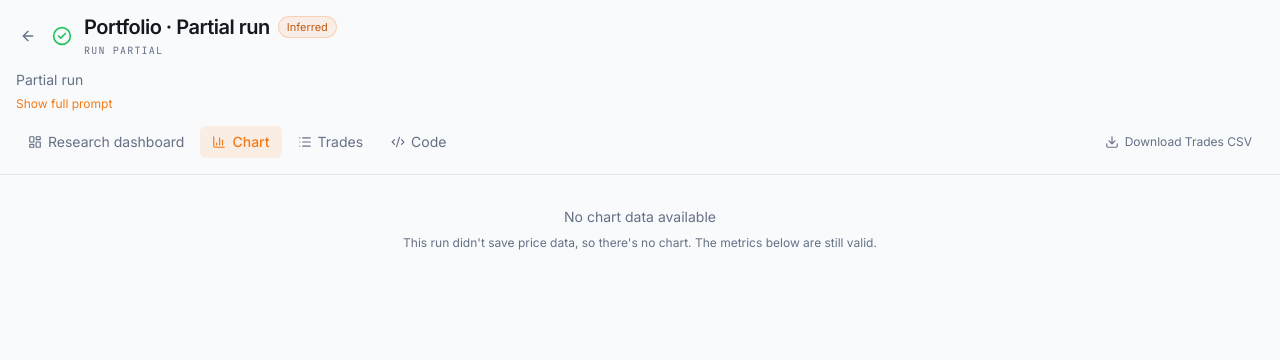
Test: RunDetail page › a trade whose P&L cannot be read is not counted as 0 in the headline total; the total says it is partial
Expected: the text "Partial run" is shown, left=16, top=71, right=83, bottom=88
Click the tab "Trades". click: (330, 142)
box: left=286, top=126, right=375, bottom=158
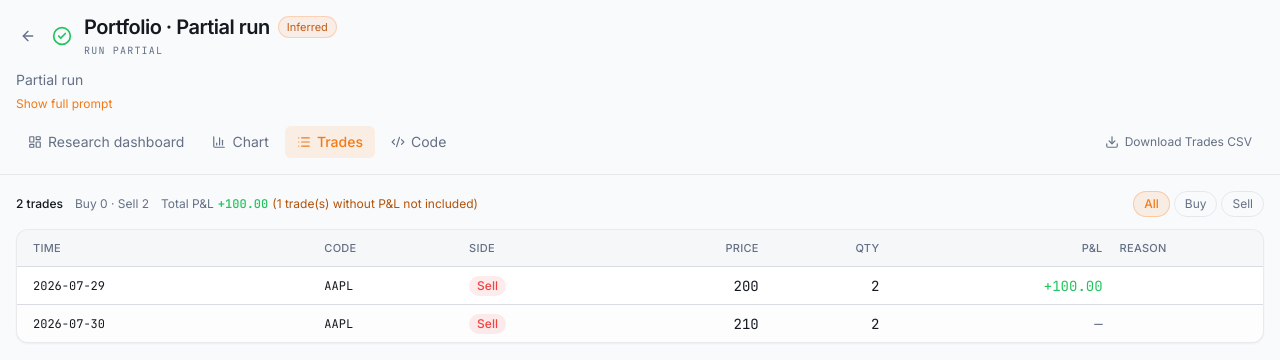
Expected: the text "Total P&L" shows "+100", left=218, top=196, right=268, bottom=212
Expected: the text "Total P&L" reads "Total P&L +100.00 (1 trade(s) without P&L not included)", left=272, top=196, right=478, bottom=211
